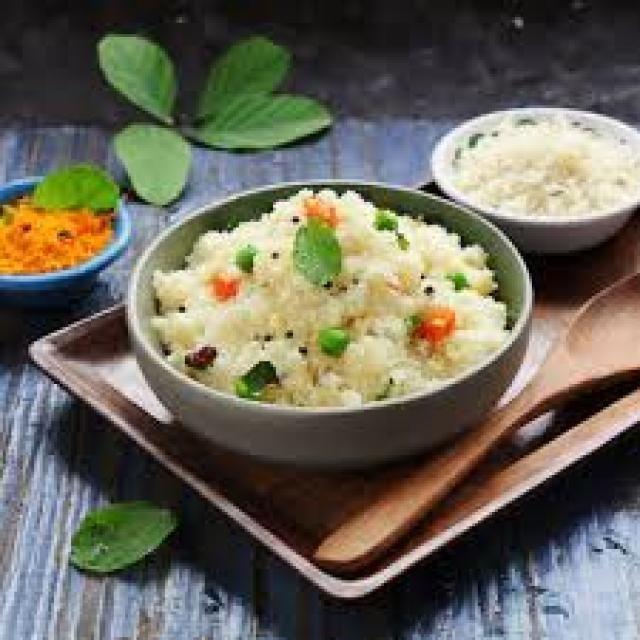UPMA: (151, 191, 503, 401)
